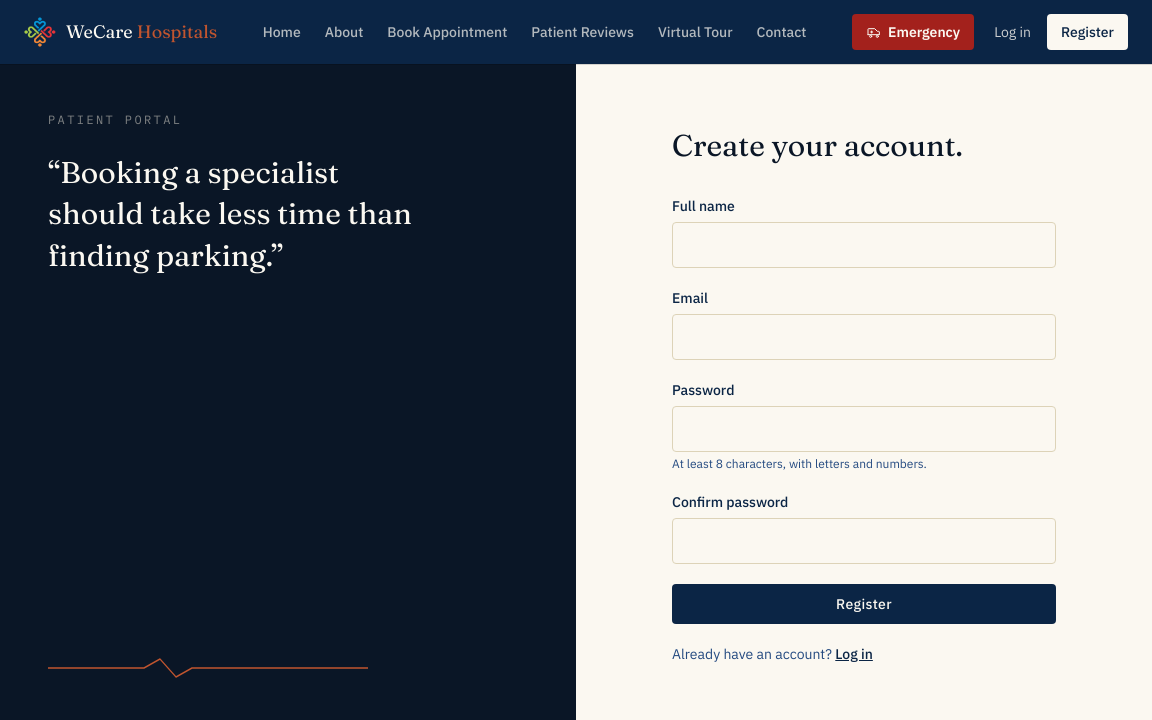
App routing › lets a new user register and land on their dashboard
The width and height of the screenshot is (1152, 720).
Type "Ada Lovelace" into the field labelled "Full name" at (864,245), box [672,222,1056,268]
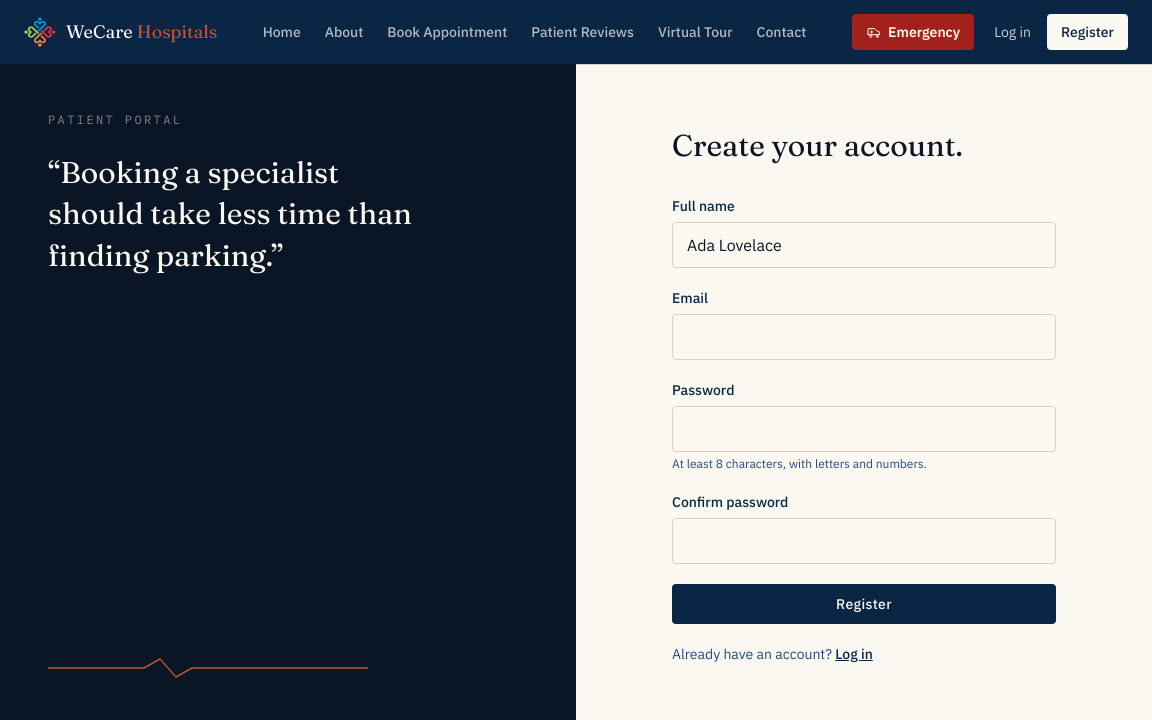
Type "ada@example.com" into the field labelled "Email" at (864,337), box [672,314,1056,360]
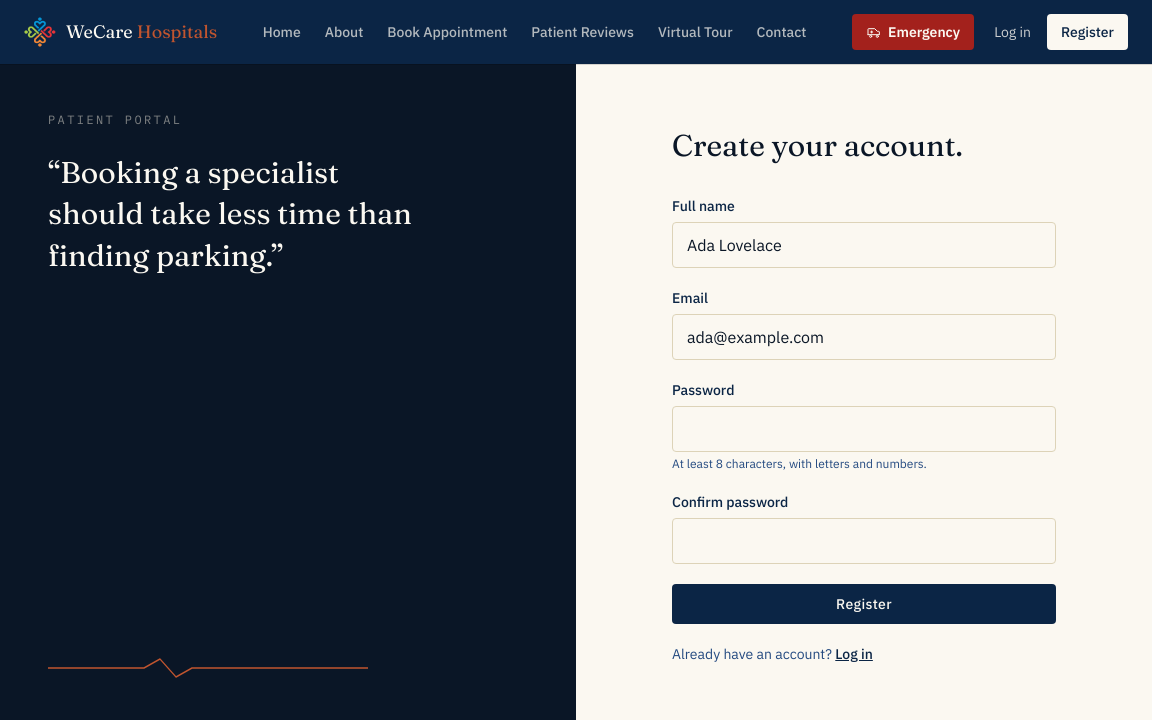
Type "letters123" into the password field labelled "Password" at (864,429), box [672,406,1056,452]
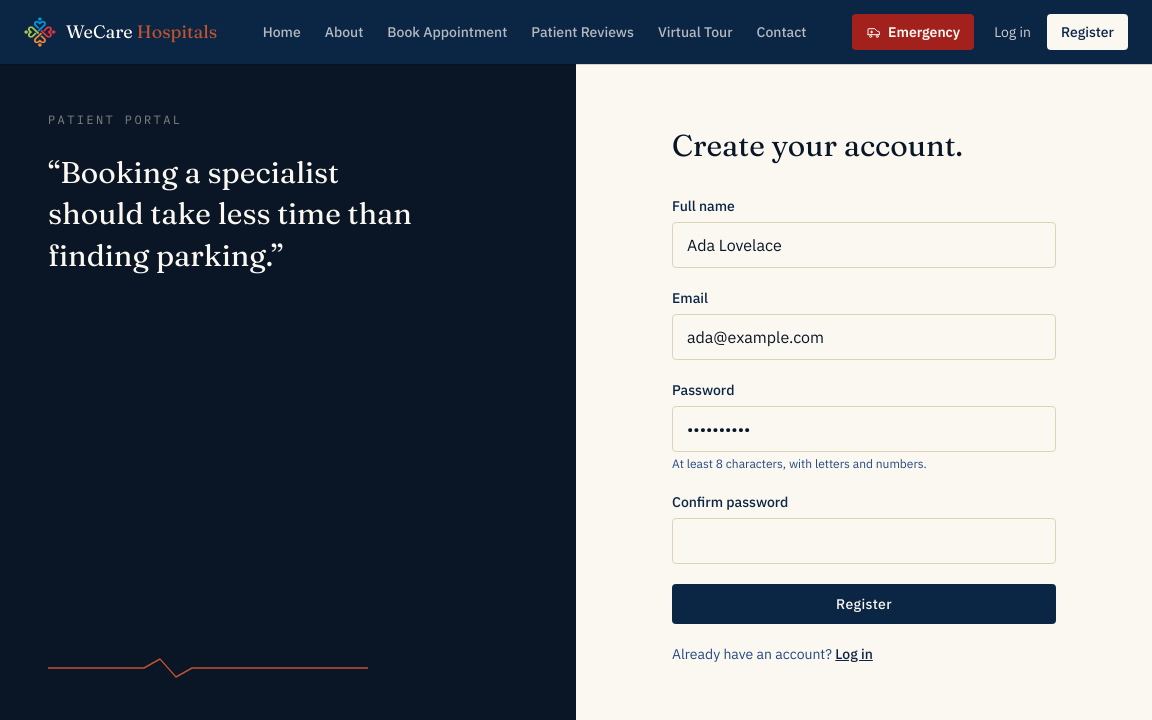
Type "letters123" into the password field labelled "Confirm password" at (864,541), box [672,518,1056,564]
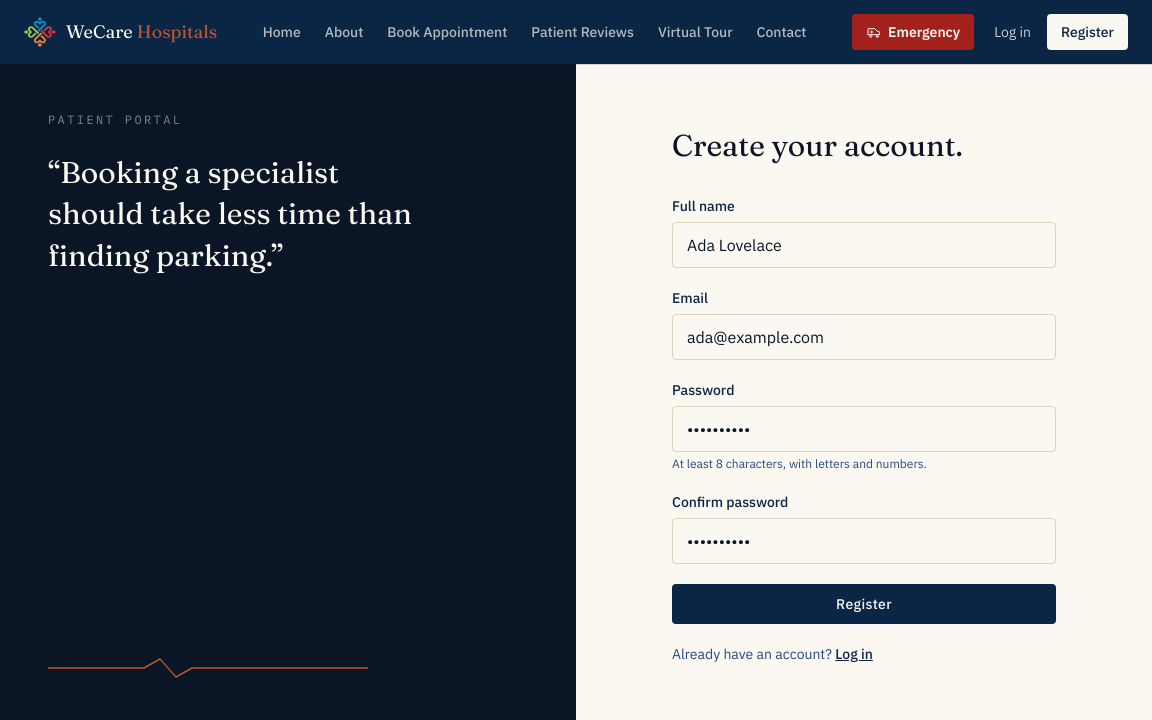
Click the button "Register" at (864,604), box [672,584,1056,624]
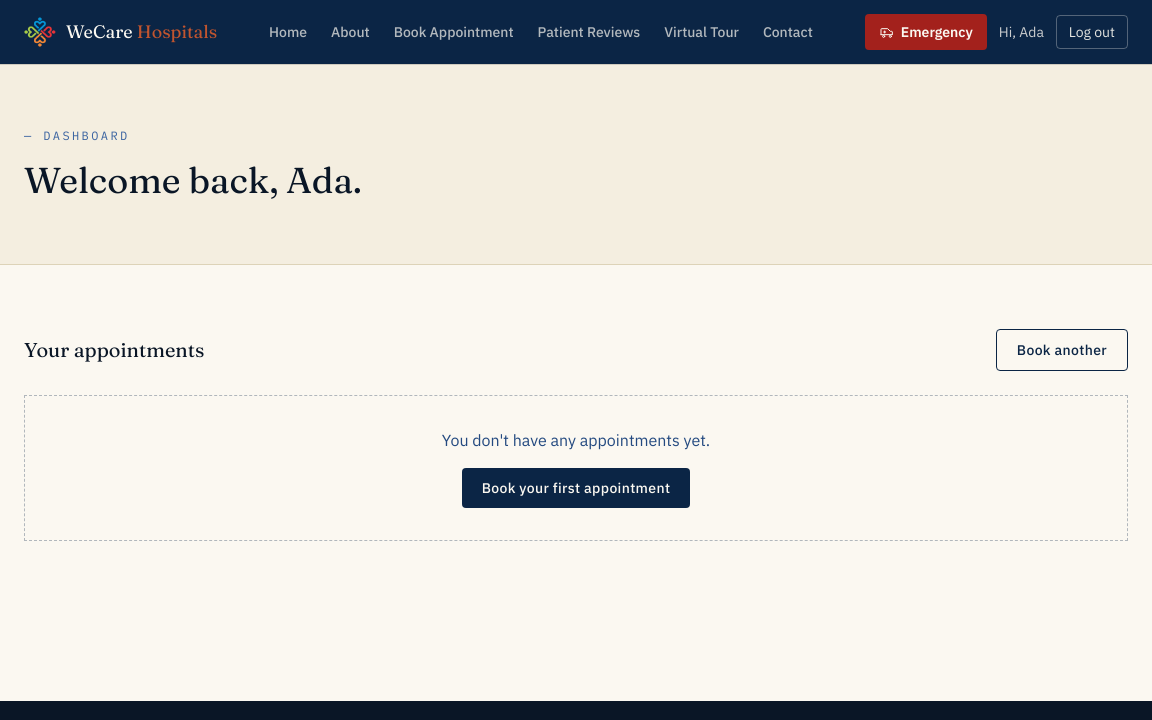
Expected: the heading "Welcome back, Ada." is shown, [24,158,362,202]
